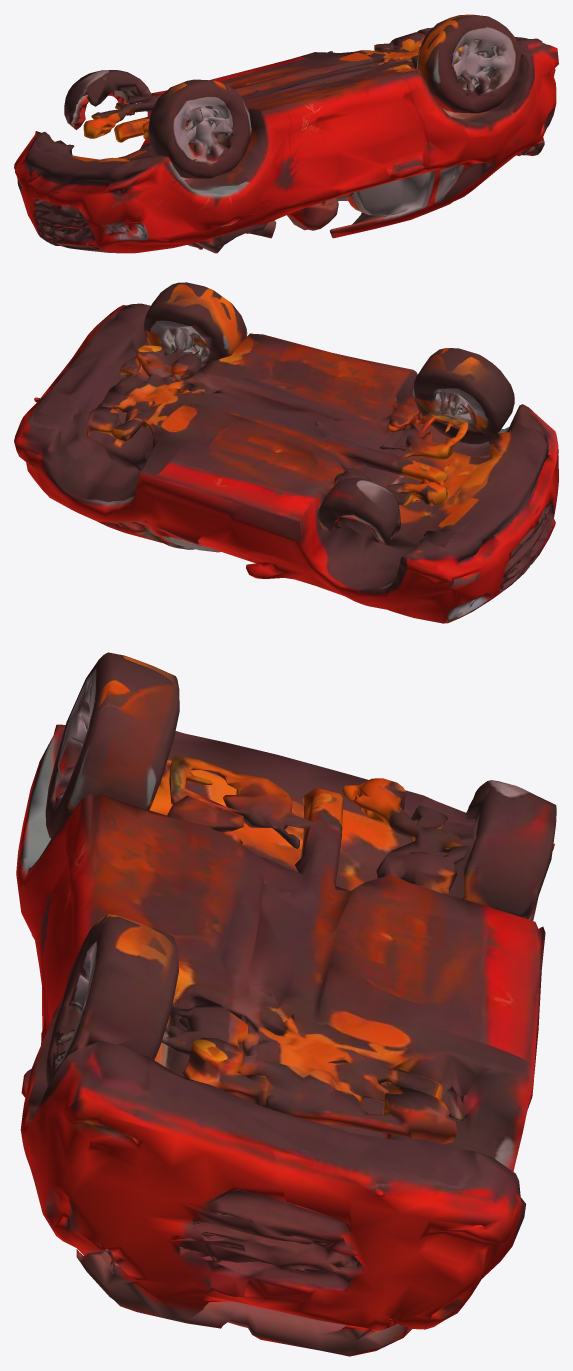
The model's file is autofuego.glb.
3 views of the same model, one above another, from view 1: azimuth 30°, elevation 25°; view 2: azimuth 150°, elevation 25°; view 3: azimuth 270°, elevation 25° (orthographic). The views are drawn at different scales.
Visible parts, largest first — view 1: tripo_node_796e97eb-4bfc-4fd0-a946-6f9aac57158d; view 2: tripo_node_796e97eb-4bfc-4fd0-a946-6f9aac57158d; view 3: tripo_node_796e97eb-4bfc-4fd0-a946-6f9aac57158d.
Part boxes in pixels (x1,y1,x2,y2): tripo_node_796e97eb-4bfc-4fd0-a946-6f9aac57158d: (14, 14, 558, 253); tripo_node_796e97eb-4bfc-4fd0-a946-6f9aac57158d: (14, 282, 558, 623); tripo_node_796e97eb-4bfc-4fd0-a946-6f9aac57158d: (16, 652, 556, 1356).
Bounding box in the file's own units: 0.9991 × 0.4302 × 0.4944.
1 material, 1 textured.
